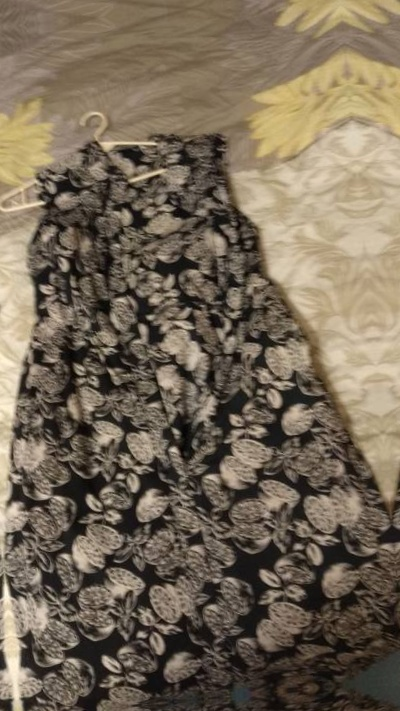Dress: (0, 99, 400, 711), (355, 60, 400, 673), (23, 686, 400, 711), (0, 137, 14, 711)
